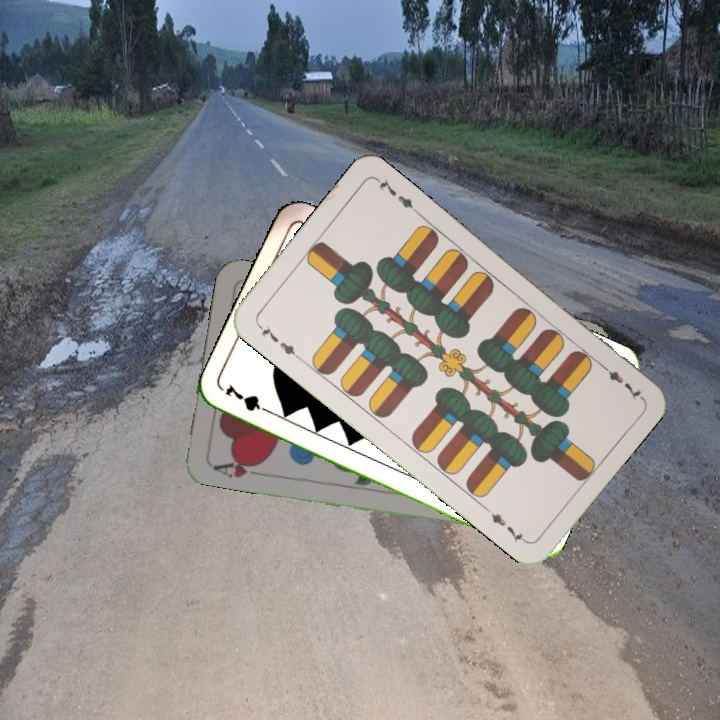E7: (595, 359, 645, 403), (253, 320, 303, 362)
G7: (221, 380, 277, 418)
HA: (209, 454, 266, 481)
